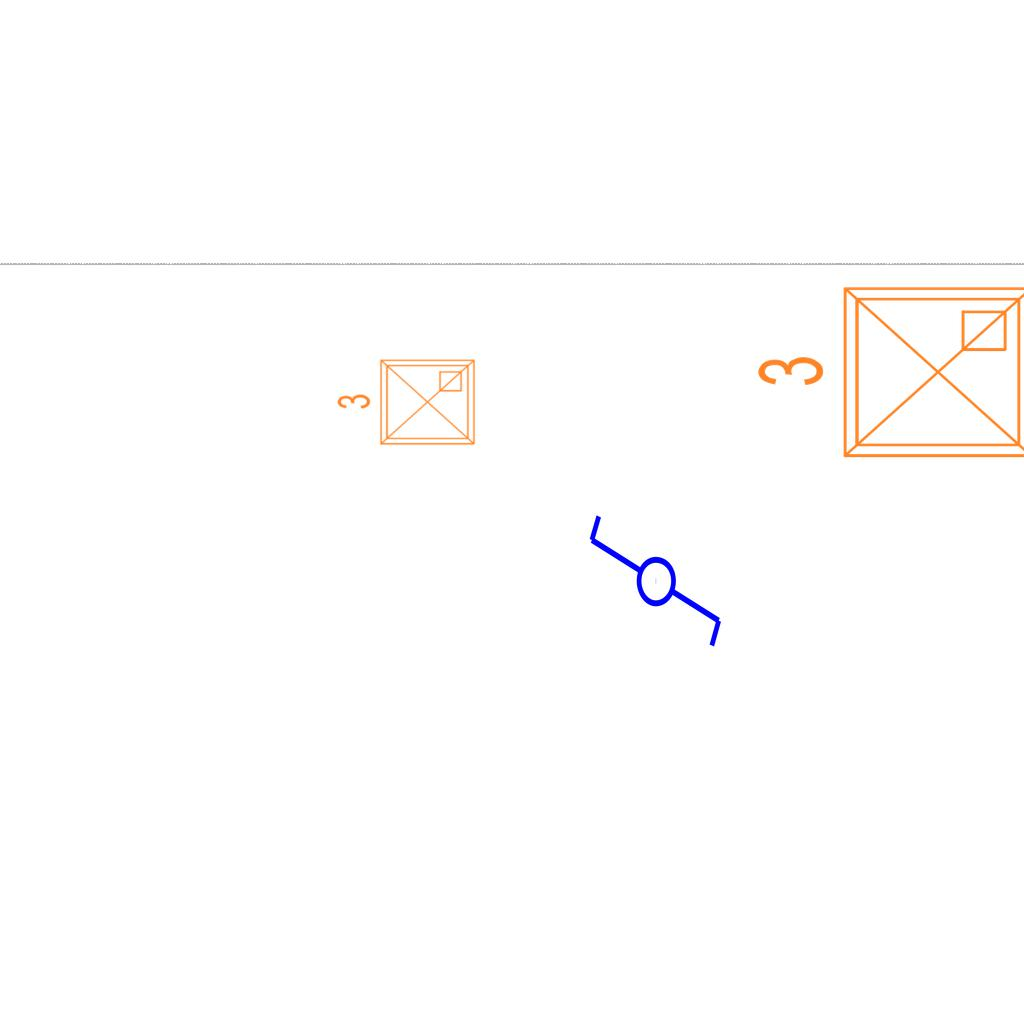Einbaudownlights_LED_Konferenzraeume: (747, 272, 1024, 480), (332, 352, 482, 456)
Wechselschalter: (582, 511, 726, 668)
